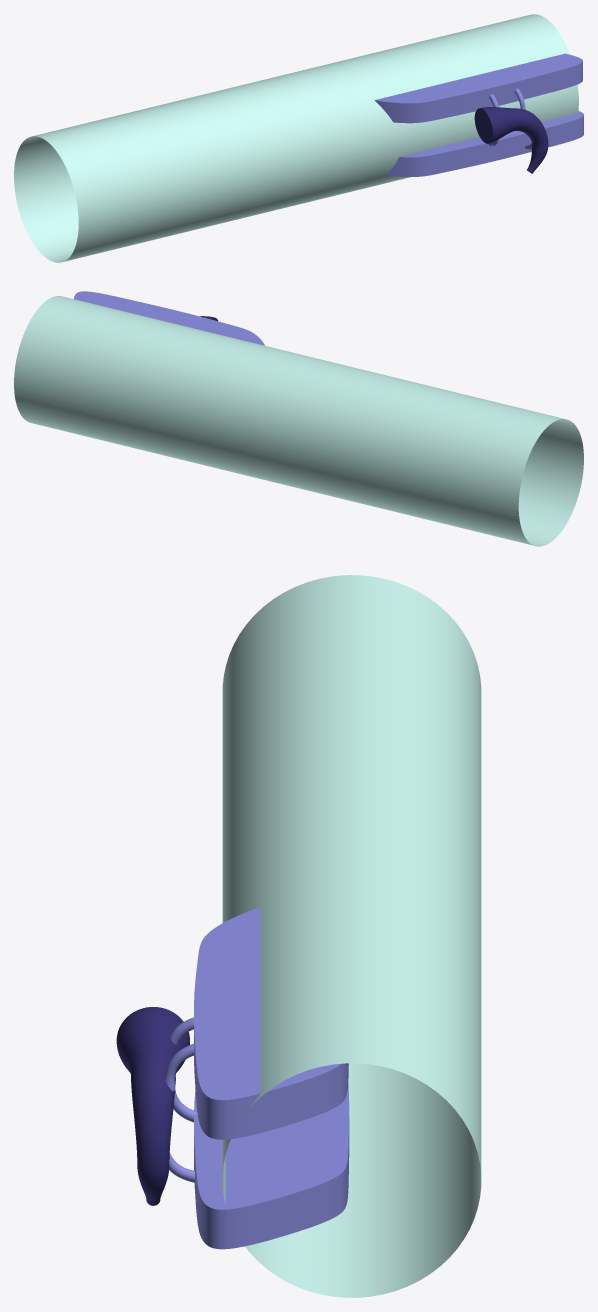
Rendered from cochlear.glb.
3 views of the same model, one above another, from view 1: azimuth 30°, elevation 25°; view 2: azimuth 150°, elevation 25°; view 3: azimuth 270°, elevation 25° (orthographic). The views are drawn at different scales.
Parts seen in each view (by area): view 1: part-01, part-05, part-02, part-07, part-20, part-04, part-21; view 2: part-01, part-07; view 3: part-01, part-07, part-04, part-20, part-02, part-05.
Boxes of the visible parts, <box> form: part-01: <box>14,14,578,262</box>; part-05: <box>375,61,582,123</box>; part-02: <box>386,115,583,176</box>; part-07: <box>375,53,582,103</box>; part-20: <box>480,107,548,173</box>; part-04: <box>400,111,583,157</box>; part-21: <box>474,108,492,143</box>; part-01: <box>14,296,583,546</box>; part-07: <box>74,291,264,345</box>; part-01: <box>222,575,481,1297</box>; part-07: <box>194,907,340,1100</box>; part-04: <box>194,1084,349,1209</box>; part-20: <box>116,1007,189,1205</box>; part-02: <box>194,1118,349,1249</box>; part-05: <box>194,1026,348,1139</box>.
Size of the model in its own units: 22.23 by 4.94 by 6.96.
